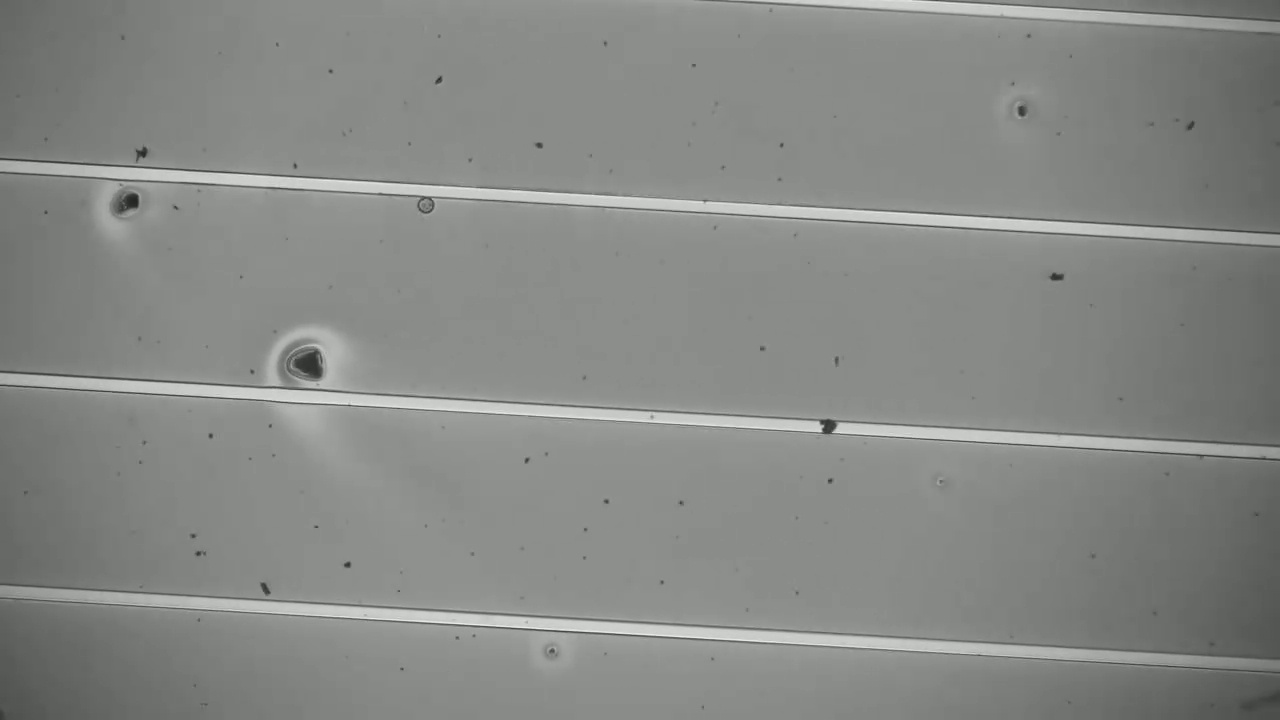stains_enbedded: (813, 408, 844, 442)
